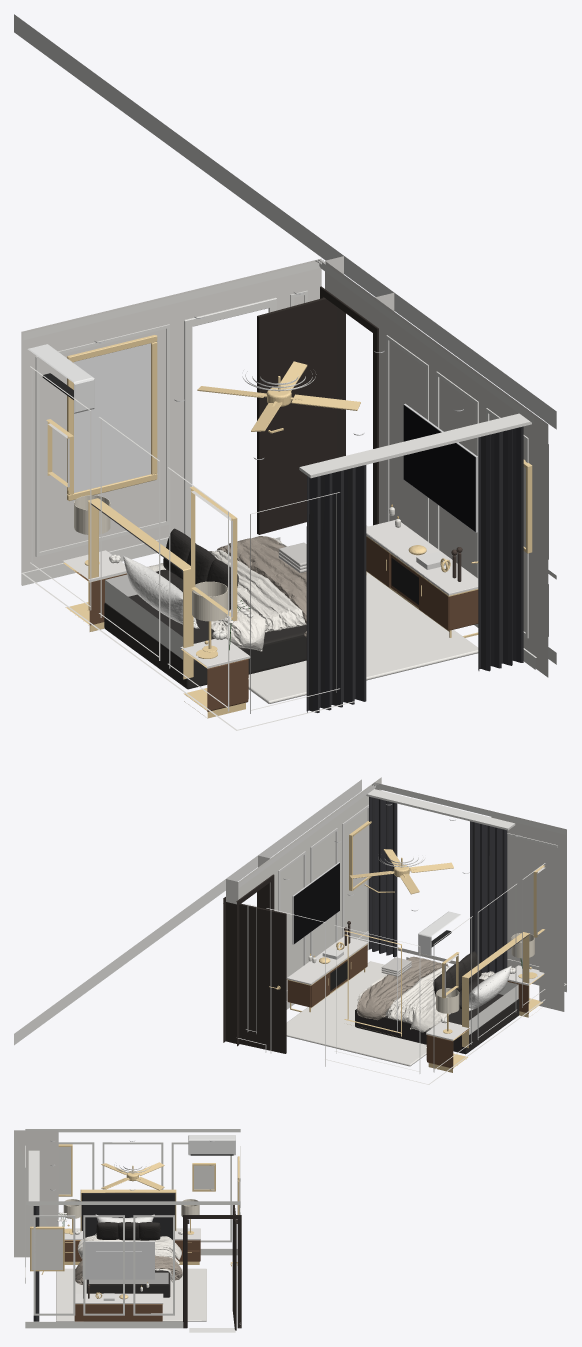
The model's file is MASTER.glb.
The picture shows the model from 3 angles, top to bottom: view 1: azimuth 30°, elevation 25°; view 2: azimuth 150°, elevation 25°; view 3: azimuth 270°, elevation 25°; orthographic projection. The views are drawn at different scales.
Visible parts, largest first — view 1: WEB_MASTER; view 2: WEB_MASTER; view 3: WEB_MASTER.
Part boxes in pixels (x1=…): WEB_MASTER: x1=14, y1=14, x2=556, y2=730; WEB_MASTER: x1=14, y1=777, x2=566, y2=1084; WEB_MASTER: x1=14, y1=1129, x2=241, y2=1332.
Bounding box in the file's own units: 3.65 × 2.5 × 9.9.
